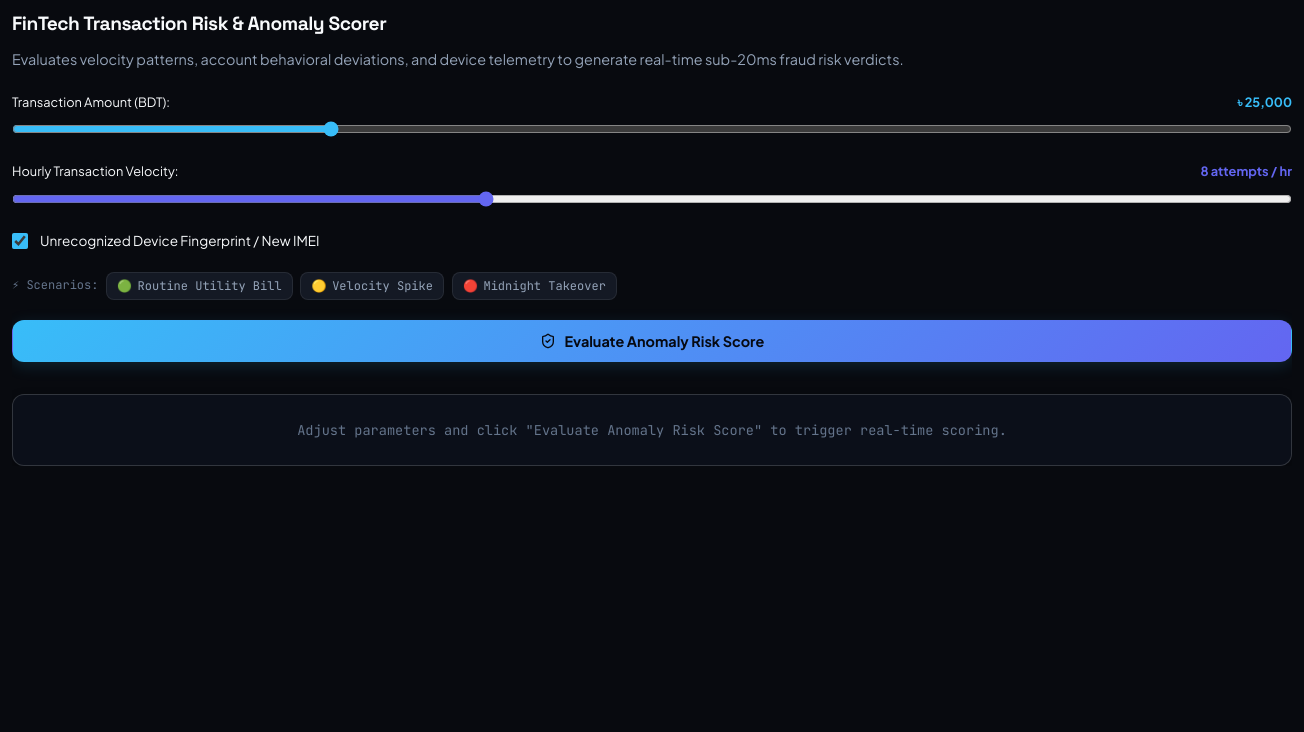
Scenario: FraudScorerTab › computes a LEGITIMATE verdict for low-risk inputs
Set the slider below "Transaction Amount (BDT):" to "1000" at x=26, y=130, box [12,122,1292,138]
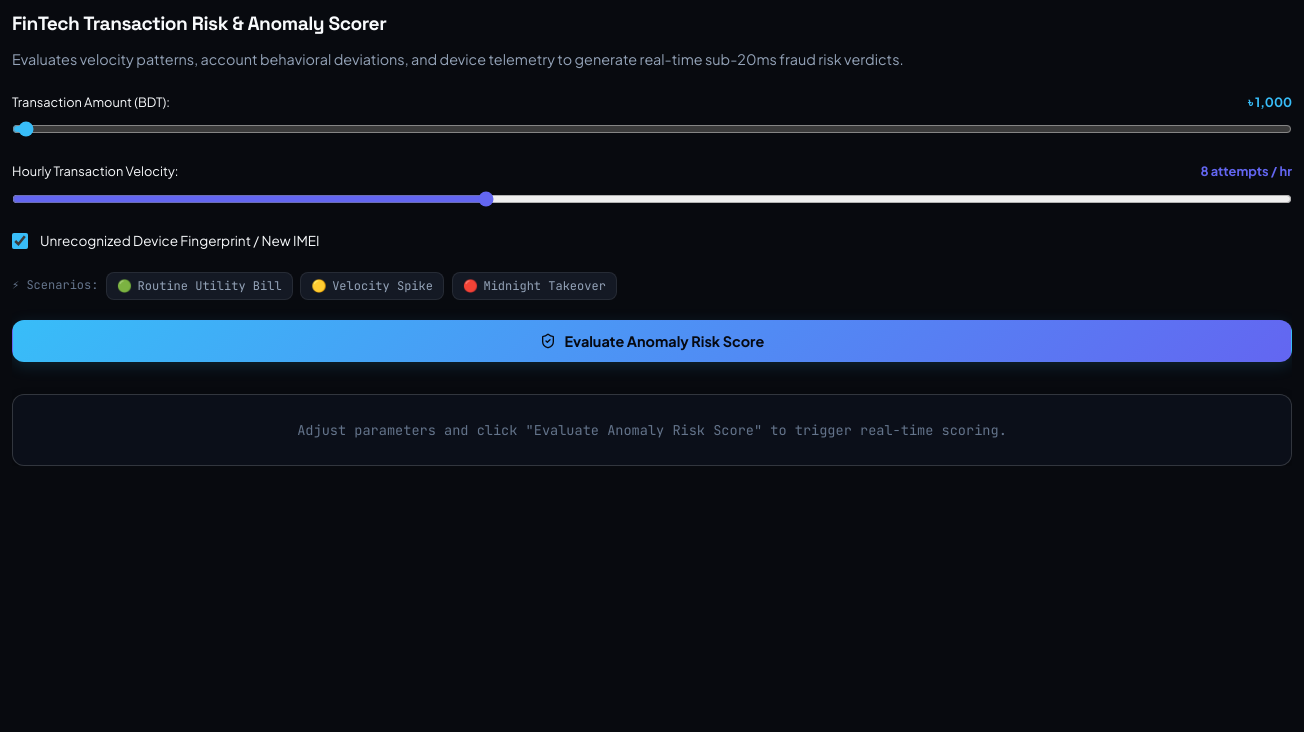
Set the slider below "Hourly Transaction Velocity:" to "1" at x=20, y=199, box [12,191,1292,207]
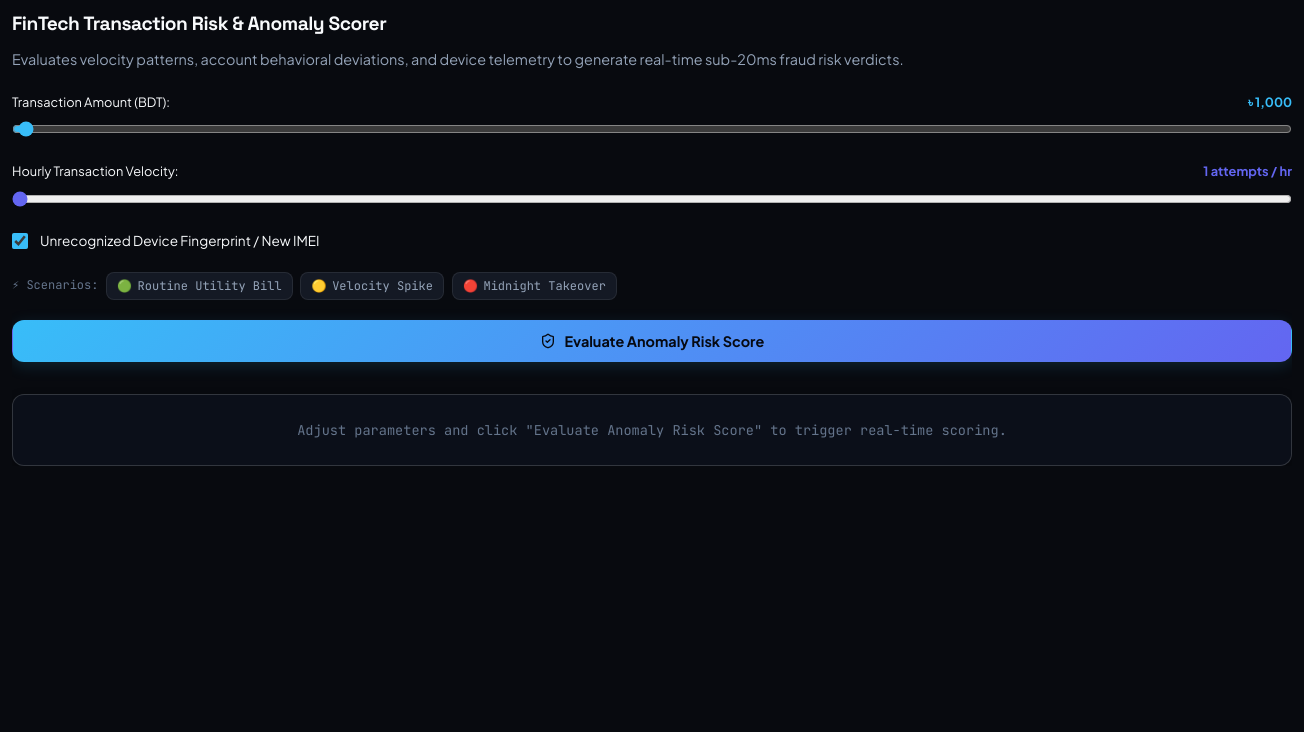
Click the checkbox labelled "Unrecognized Device Fingerprint / New IMEI" at x=20, y=241, box [12,233,28,249]
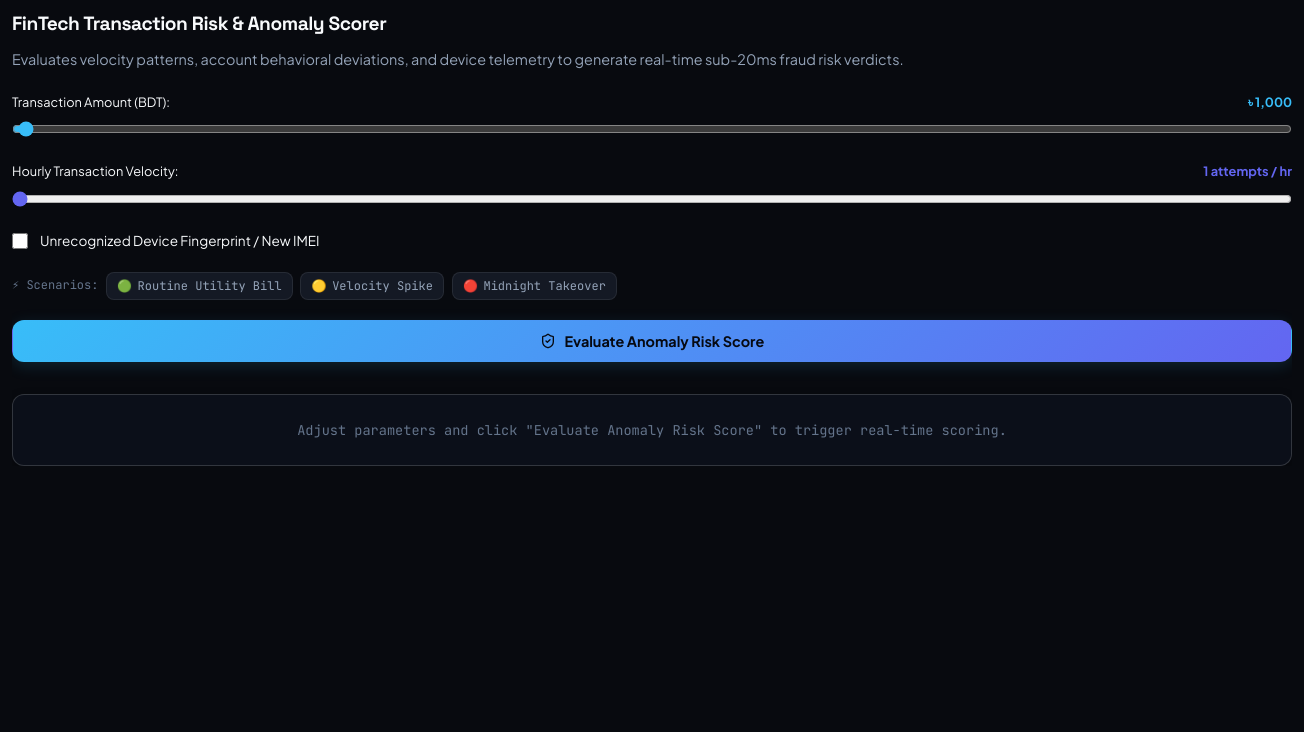
Click the button "Evaluate Anomaly Risk Score" at x=652, y=341, box [12,320,1292,362]
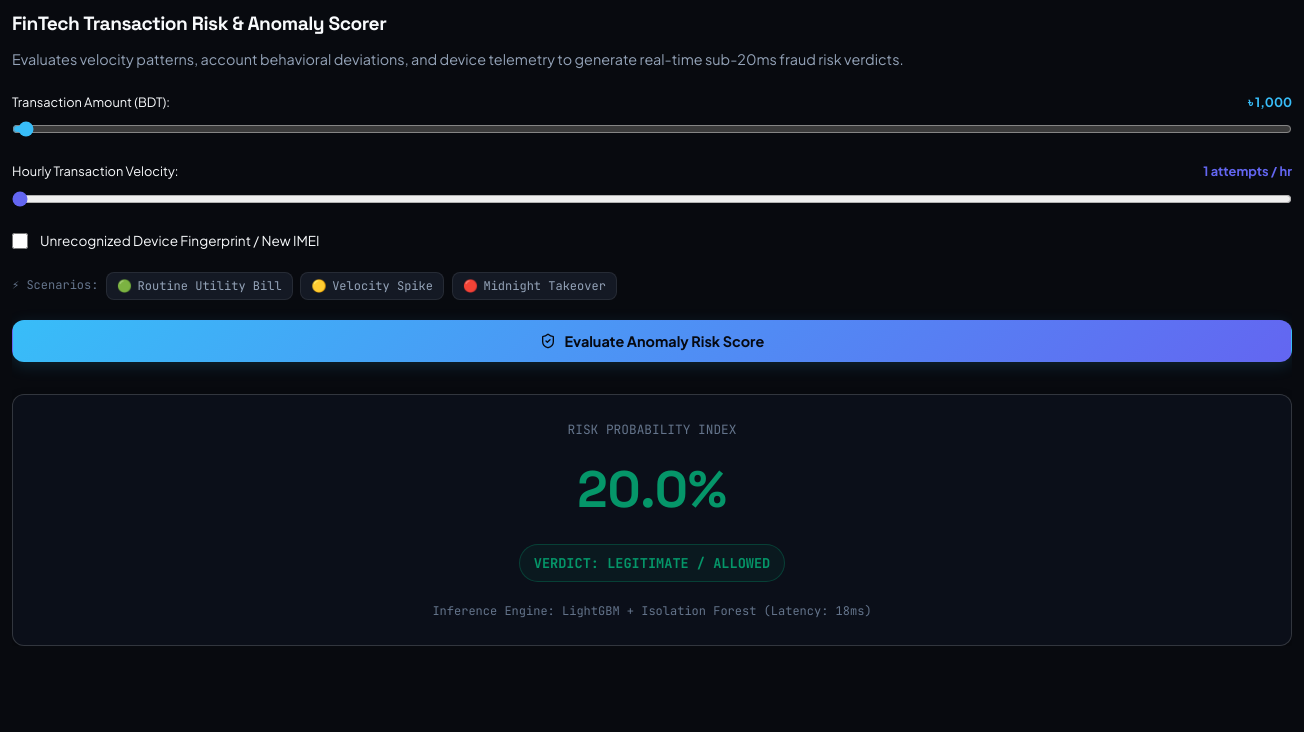
Result: the text "VERDICT: LEGITIMATE / ALLOWED" is shown at [519,544,785,582]
